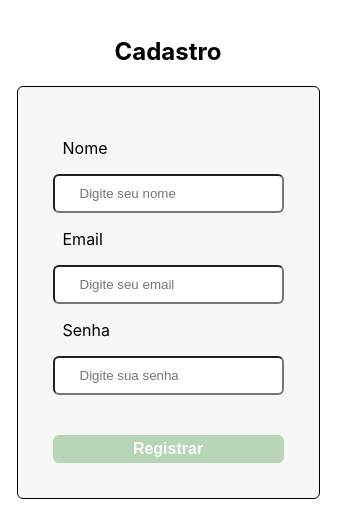
Testa a pagina de Registro › Testa as verificações do register form › Testa se não é possivel fazer registro de um email ja existente
Type "cliente zé Birita" into the field with test id "common_register__input-name".
click(168, 193); type("cliente zé Birita")  # box top-left (52, 174), bottom-right (284, 212)
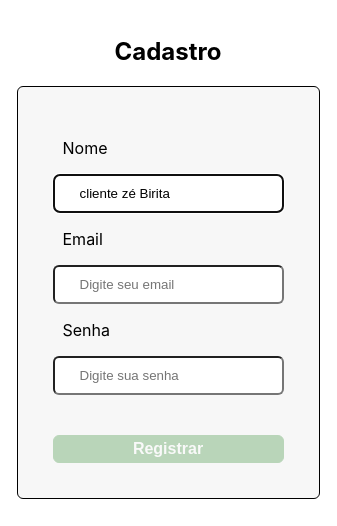
Type "zebirita@email.com" into the field with test id "common_register__input-email".
click(168, 284); type("zebirita@email.com")  # box top-left (52, 264), bottom-right (284, 304)
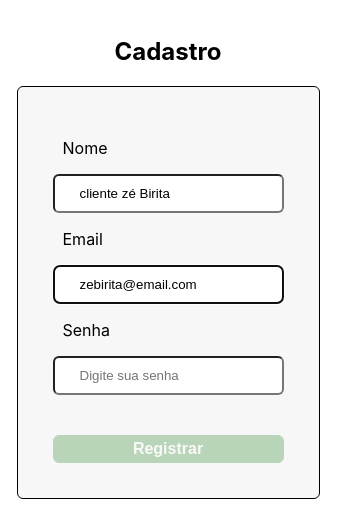
Type "123456" into the field with test id "common_register__input-password".
click(168, 375); type("123456")  # box top-left (52, 356), bottom-right (284, 394)
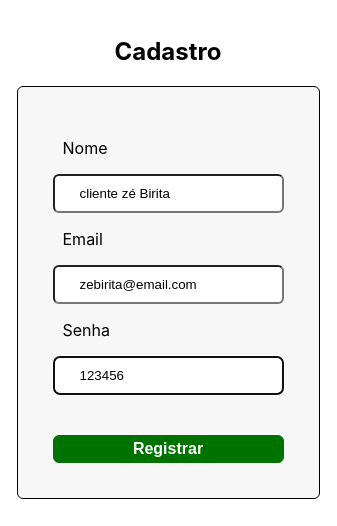
Check: the button with test id "common_register__button-register" is enabled
Click the button with test id "common_register__button-register".
click(168, 449)  # box top-left (52, 434), bottom-right (284, 463)
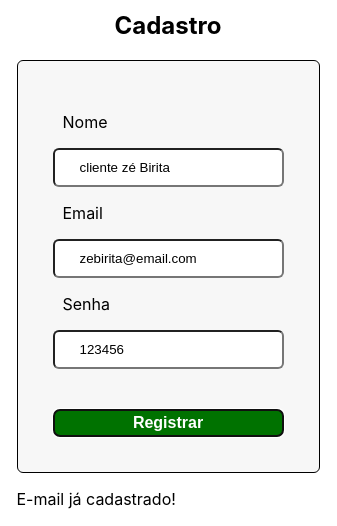
Check: the text "E-mail já cadastrado!" is shown, box top-left (16, 489), bottom-right (176, 509)
